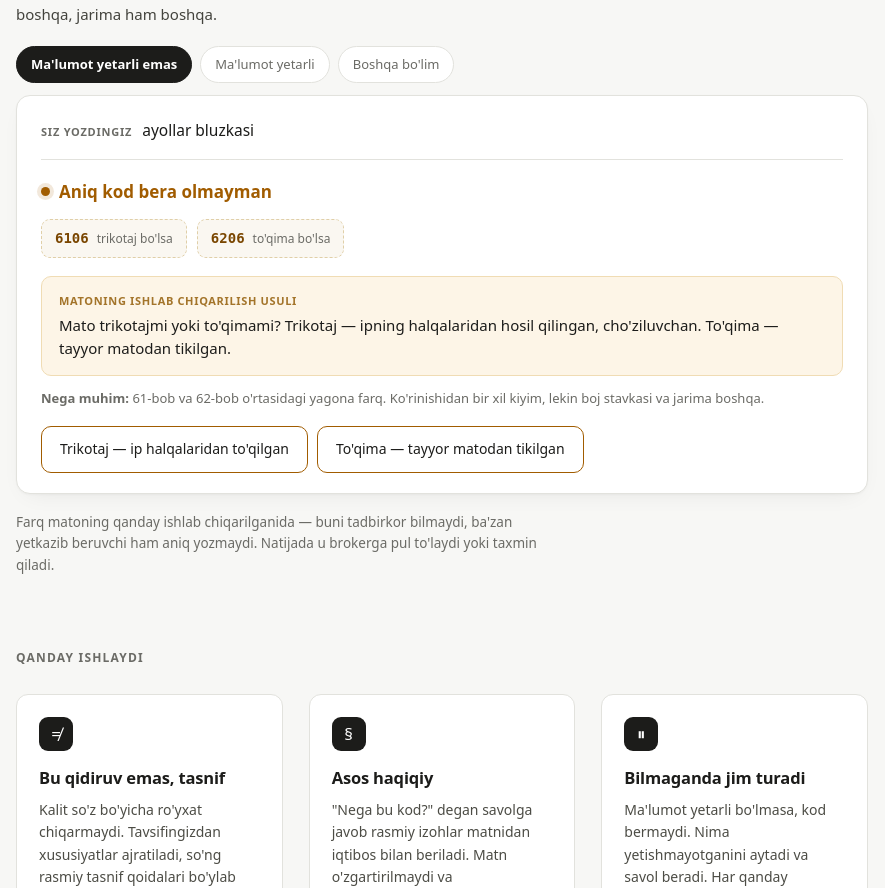
Test case: demo — boshqarish › qayta boshlash boshlang'ich holatga qaytaradi
(page scrolled)
Click the button with test id "demo-option" that starts with "Trikotaj — ip halqalaridan to'qilgan" at point(174, 450), box [41,426,308,473]
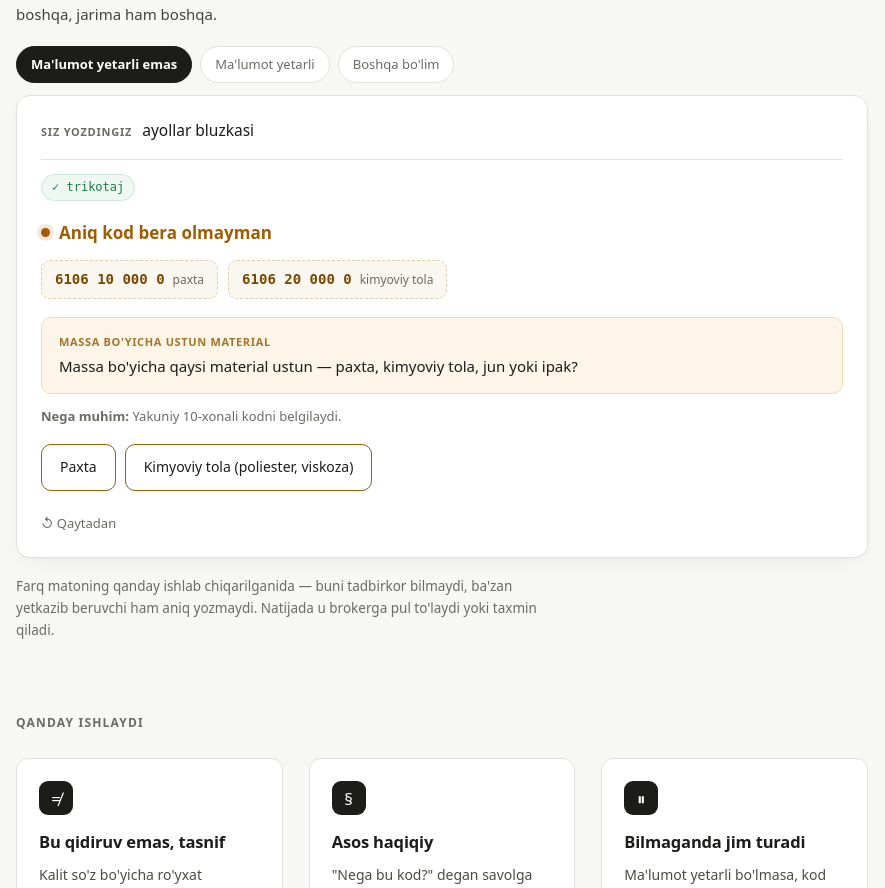
Expected: the element with test id "demo-question" is shown, [41,317,843,394]
Click the button with test id "demo-option" showing "Paxta" at point(78, 467), box [41,444,116,491]
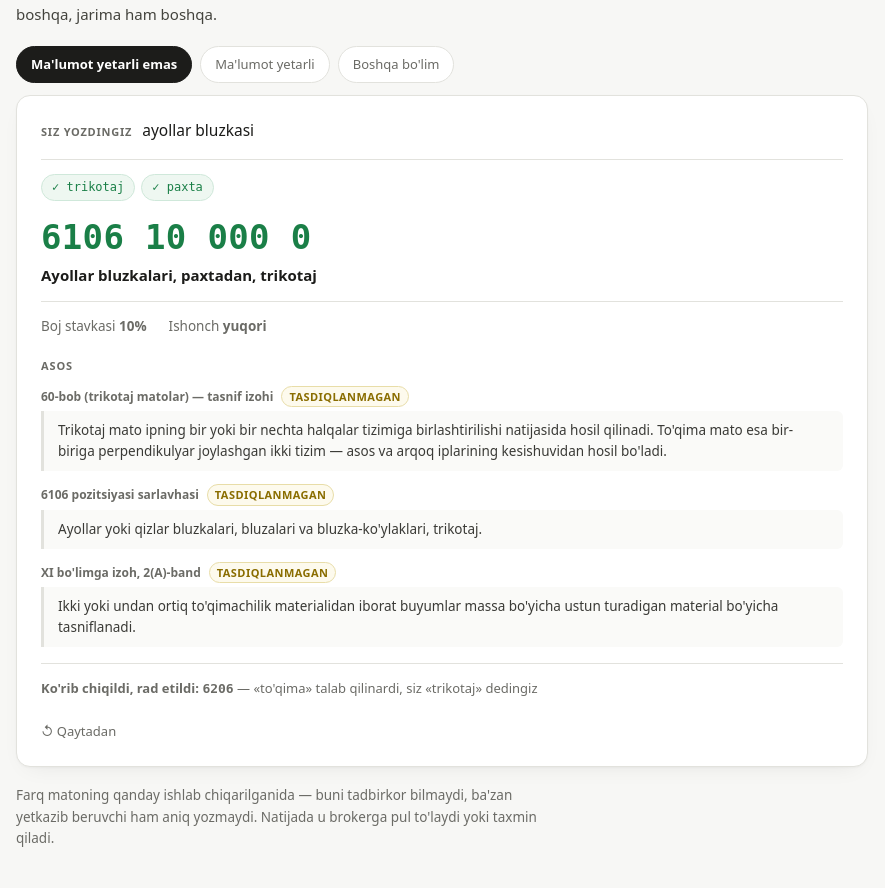
Expected: the text "6106 10 000 0" is shown, [41,217,312,257]
Click the button with test id "demo-reset" at point(79, 732), box [41,717,116,746]
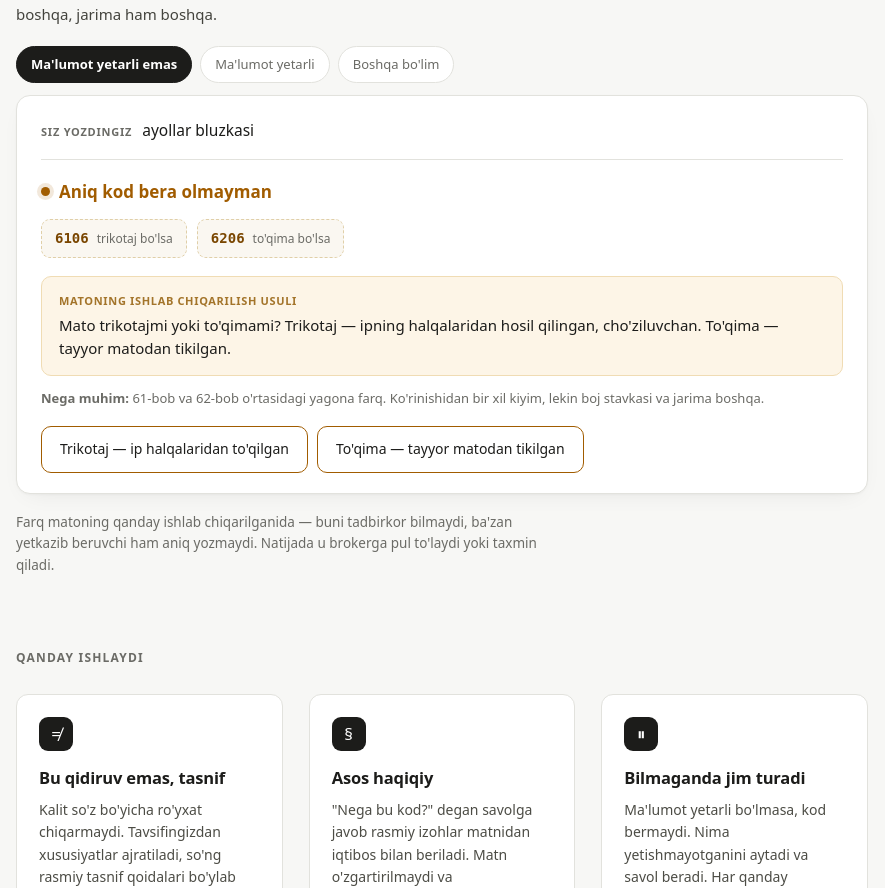
Expected: the text with test id "demo-code" is gone
Expected: the element with test id "demo-question" is shown, [41,276,843,376]
